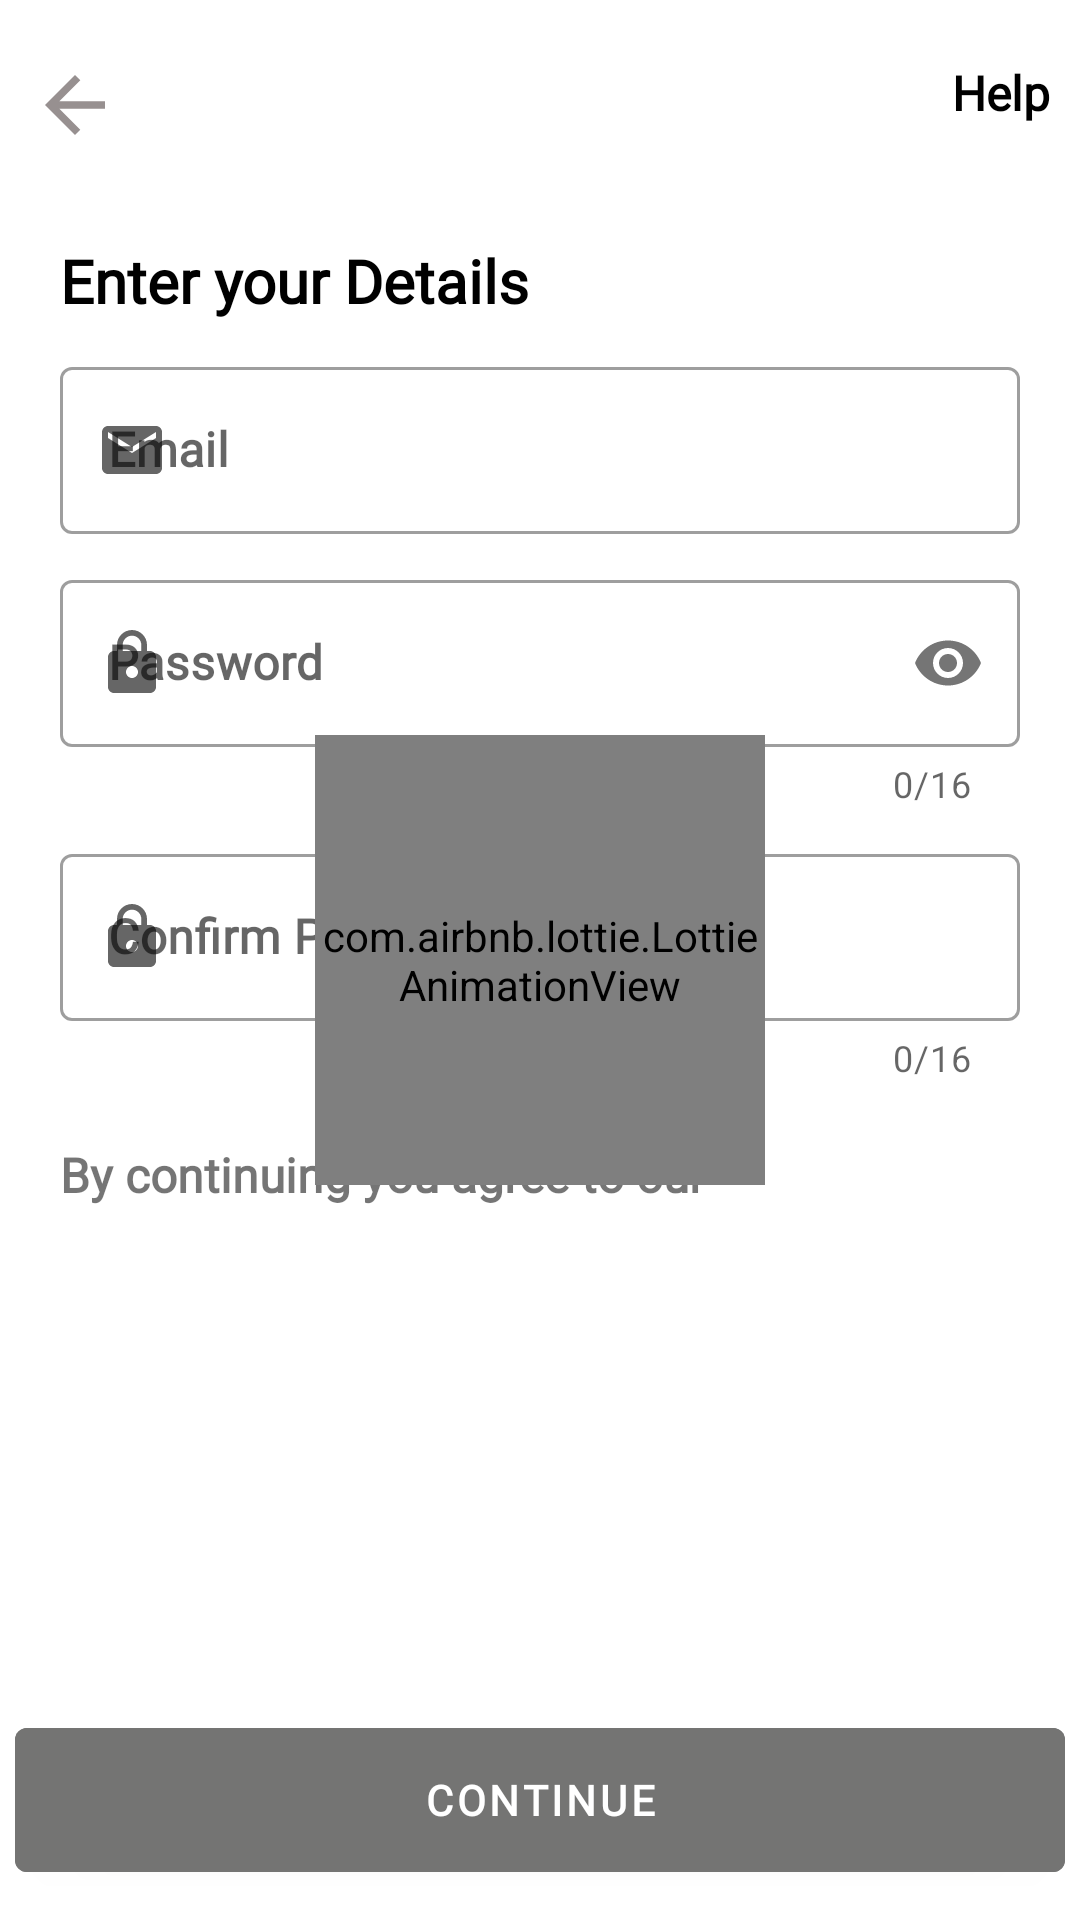

Named icons in this screenshot (1080 x 1920) and their centers, (x=x, y=y):
arrow back: (x=75, y=105)
